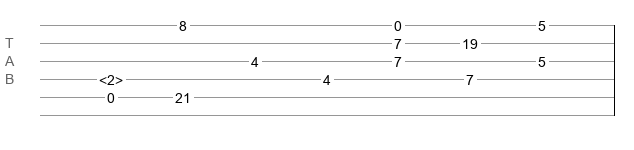0: (107, 90, 115, 100), (394, 18, 402, 28)
19: (462, 36, 478, 46)
21: (175, 90, 191, 100)
4: (251, 54, 259, 64), (323, 72, 331, 82)
5: (538, 18, 546, 28), (538, 54, 546, 64)
7: (394, 36, 402, 46), (394, 54, 402, 64), (466, 72, 474, 82)
8: (179, 18, 187, 28)
harmonic: (99, 72, 123, 82)
